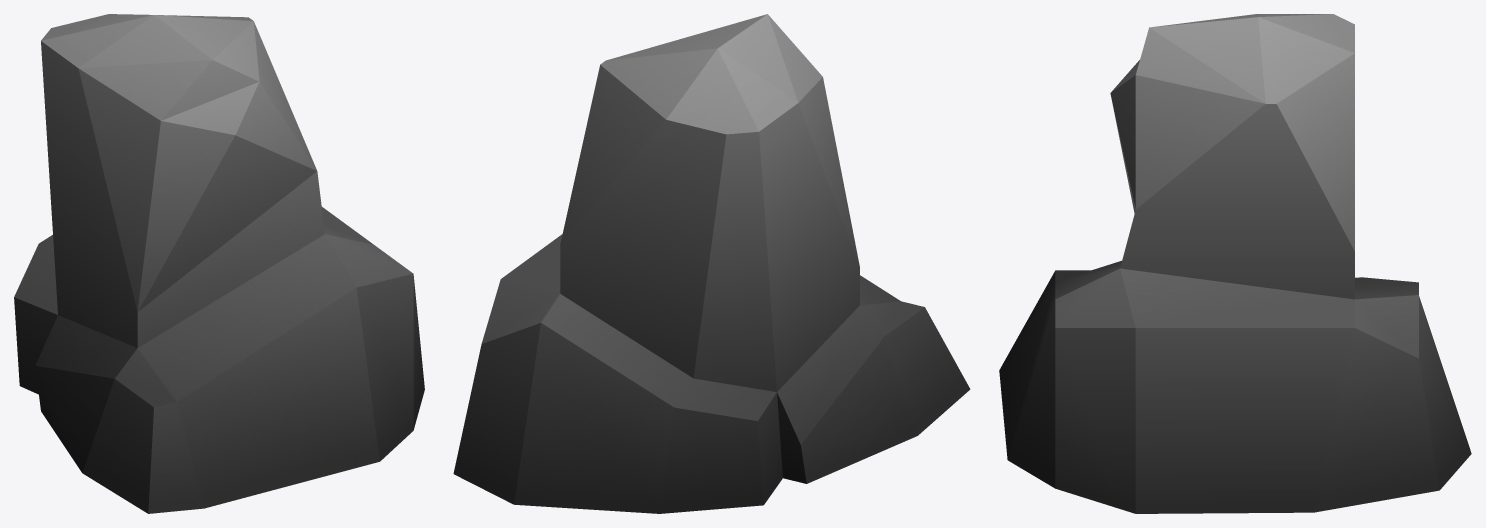
Rendered from Rock-0.obj.
3 renders of one model, left to right at view 1: azimuth 30°, elevation 25°; view 2: azimuth 150°, elevation 25°; view 3: azimuth 270°, elevation 25°, orthographic. The views are drawn at different scales.
Parts seen in each view (by area): view 1: Cube; view 2: Cube; view 3: Cube.
Boxes of the visible parts, box(x1,y1,x2,y2) form: Cube: box(14, 14, 424, 513); Cube: box(453, 14, 970, 513); Cube: box(999, 14, 1471, 513).
Size of the model in its own units: 5.01 by 5.34 by 5.84.
